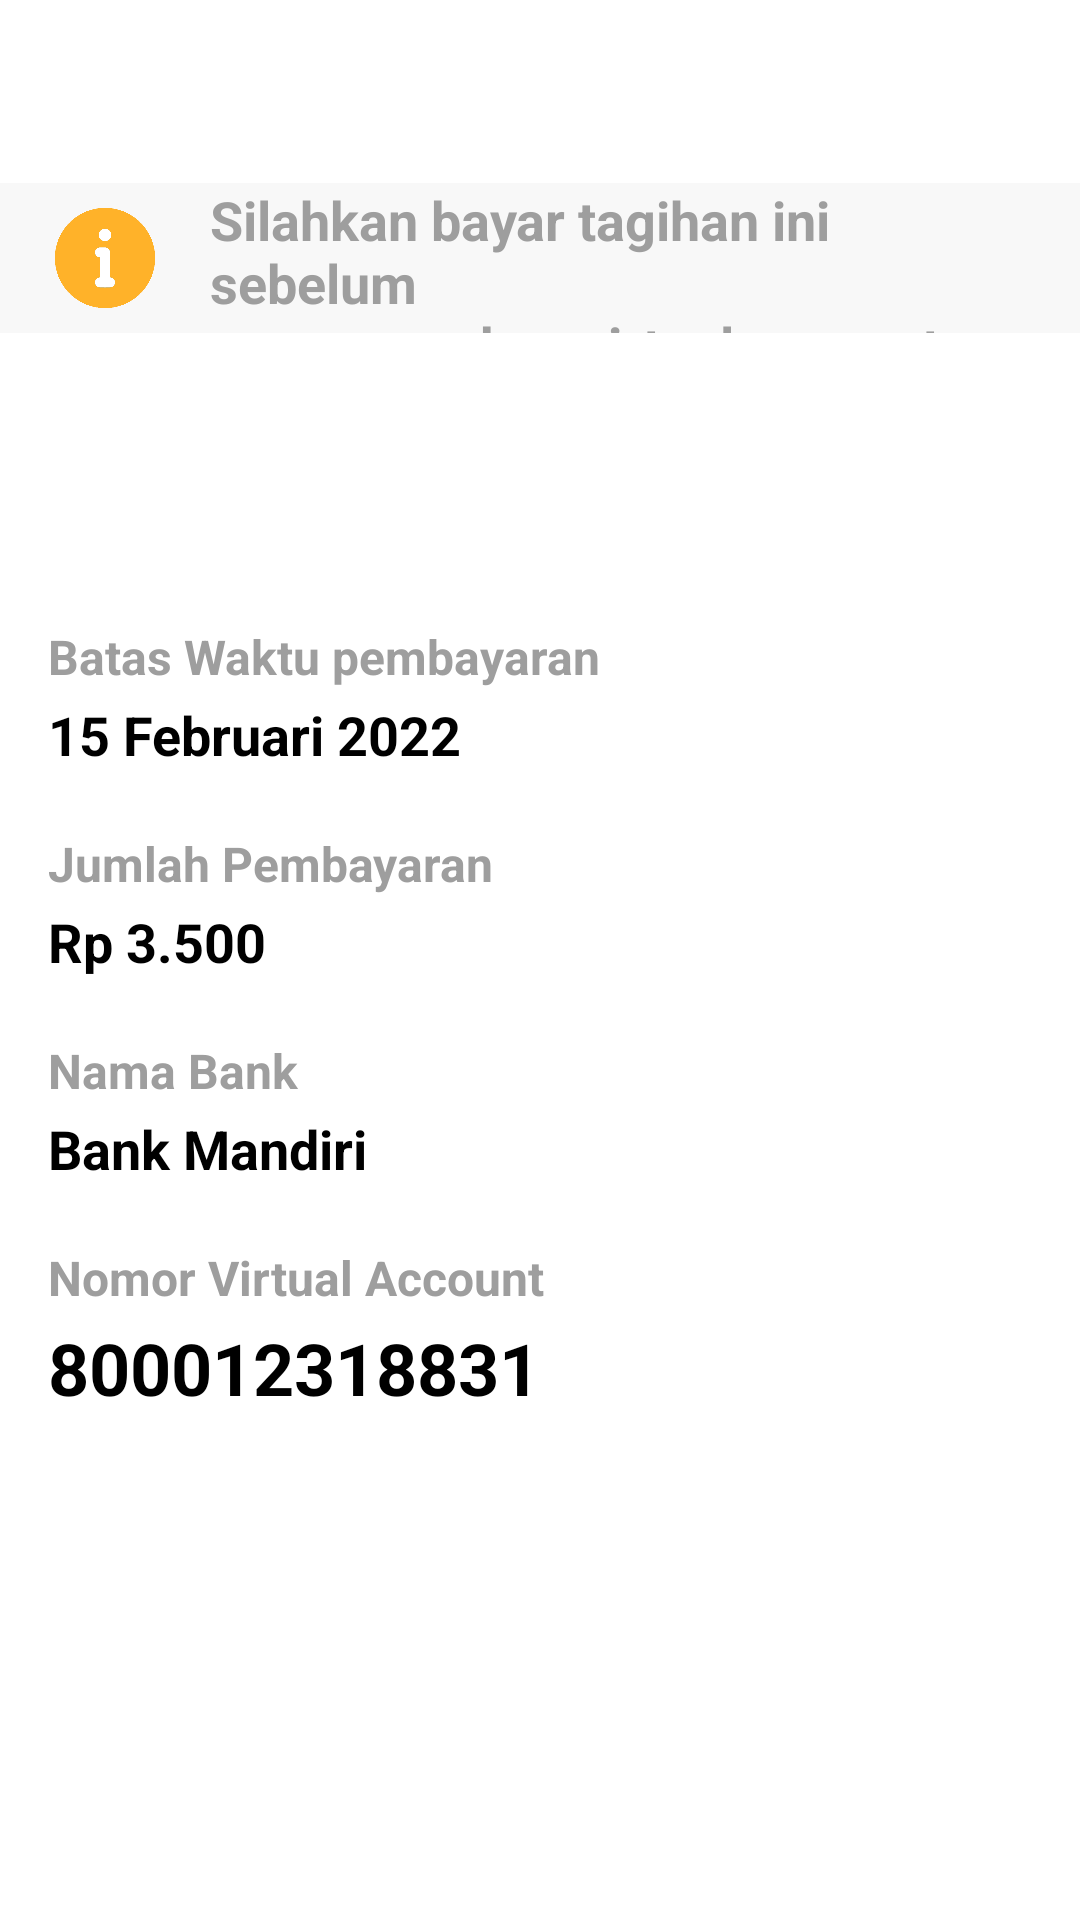

Icons on this 1080px×1920px Android screen, each with its box as (x1, y1, x2, y2):
information gold: (55, 208, 155, 308)
